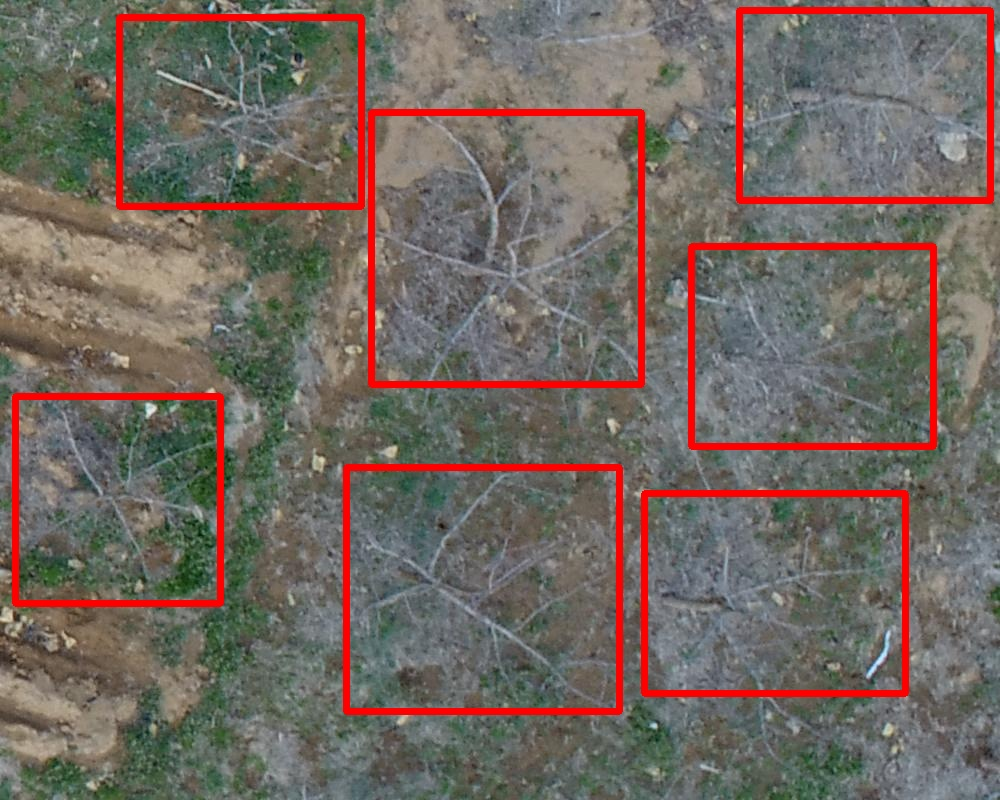apple: (371, 112, 641, 384), (346, 467, 619, 711), (644, 493, 905, 693), (691, 246, 933, 446), (739, 10, 990, 200), (119, 17, 361, 206), (15, 396, 220, 603)
